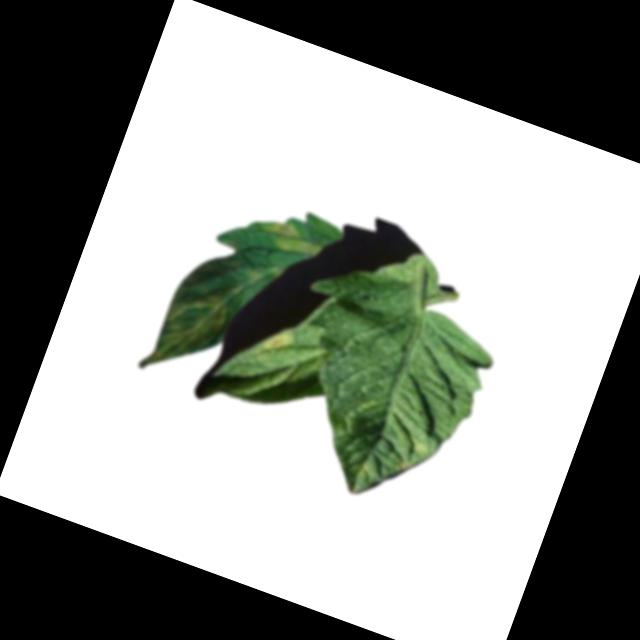Leaf_Mold: (136, 275, 234, 392), (253, 211, 329, 263), (392, 428, 435, 481), (256, 323, 301, 364)
